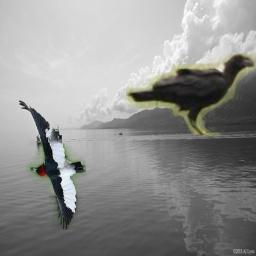Crow: (126, 53, 256, 136)
Woodpecker: (19, 100, 86, 230)
